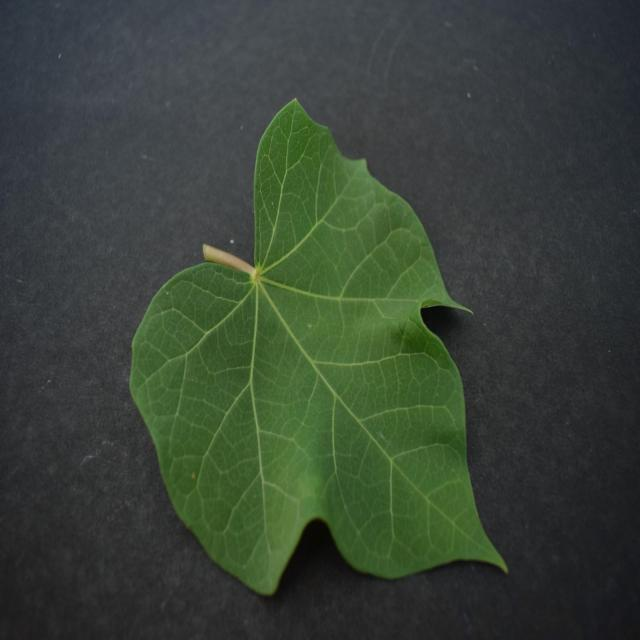healthy: (130, 100, 505, 595)
